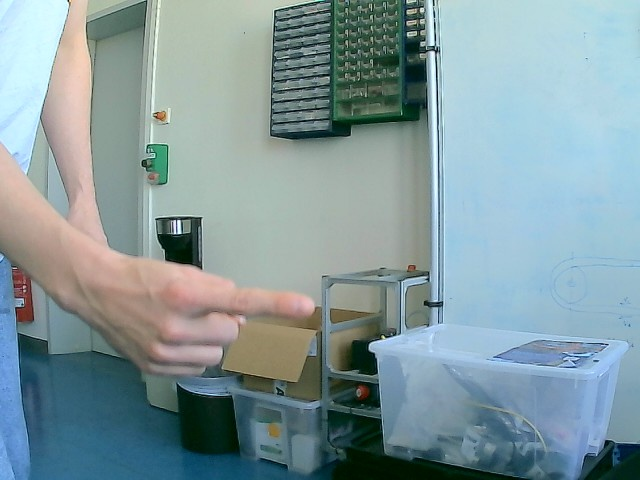left: (74, 245, 316, 379)
